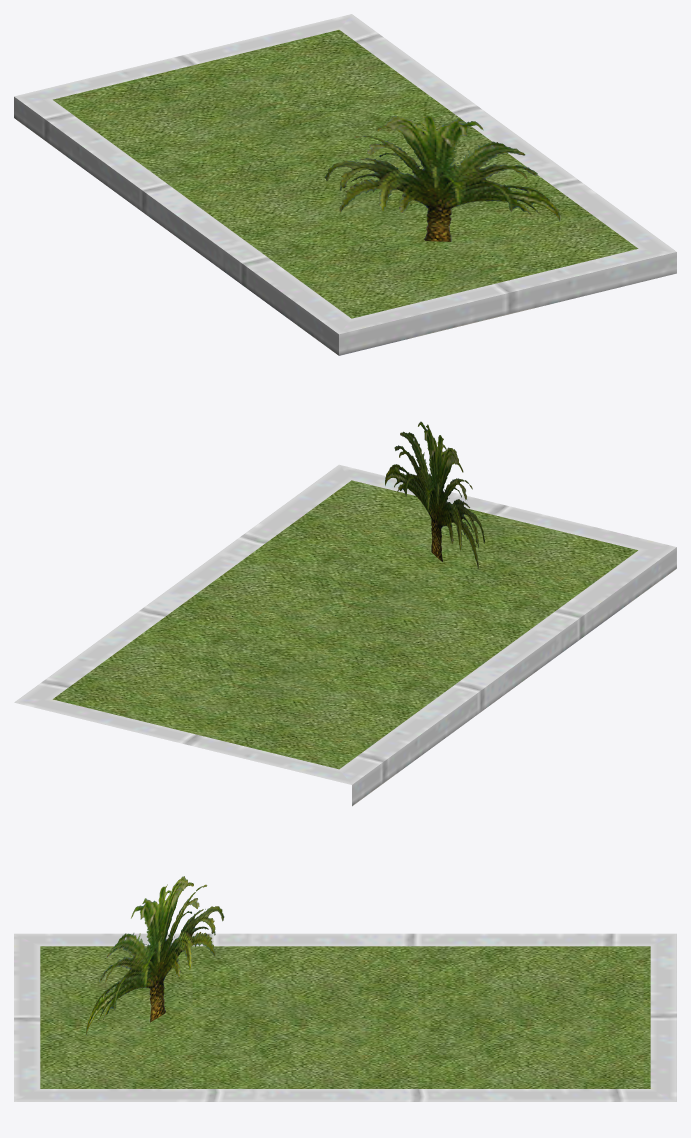
Rendered from shuzu05.FBX.
3 renders of one model, top to bottom at view 1: azimuth 30°, elevation 25°; view 2: azimuth 150°, elevation 25°; view 3: azimuth 270°, elevation 25°, orthographic.
Visible parts, largest first — view 1: shuzu05; view 2: shuzu05; view 3: shuzu05.
Boxes of the visible parts, x1,y1,x2,y2 form: shuzu05: (14,14,676,355); shuzu05: (14,421,676,806); shuzu05: (14,876,676,1101).
Size of the model in its own units: 9.41 by 4.28 by 15.67.
Materials: 3 (3 with a texture image).
